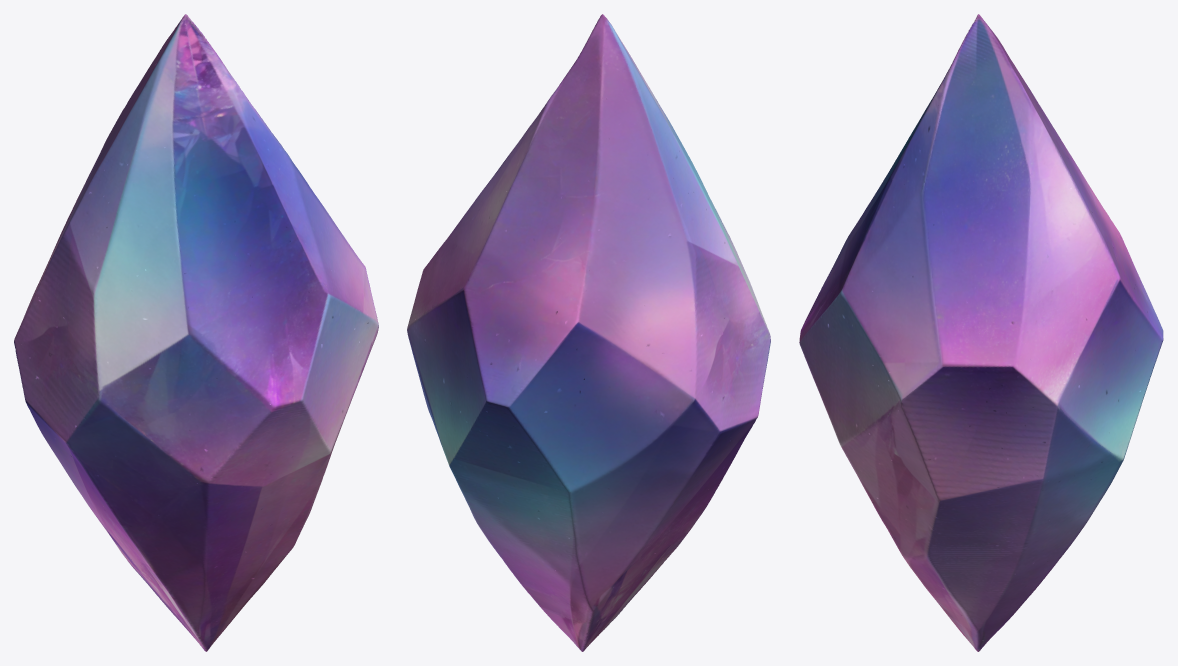
The model's file is dimond.glb.
3 views of the same model, side by side, from view 1: azimuth 30°, elevation 25°; view 2: azimuth 150°, elevation 25°; view 3: azimuth 270°, elevation 25° (orthographic). The views are drawn at different scales.
Size of the model in its own units: 0.9784 by 2 by 1.05.
Materials: 1 (1 with a texture image).
